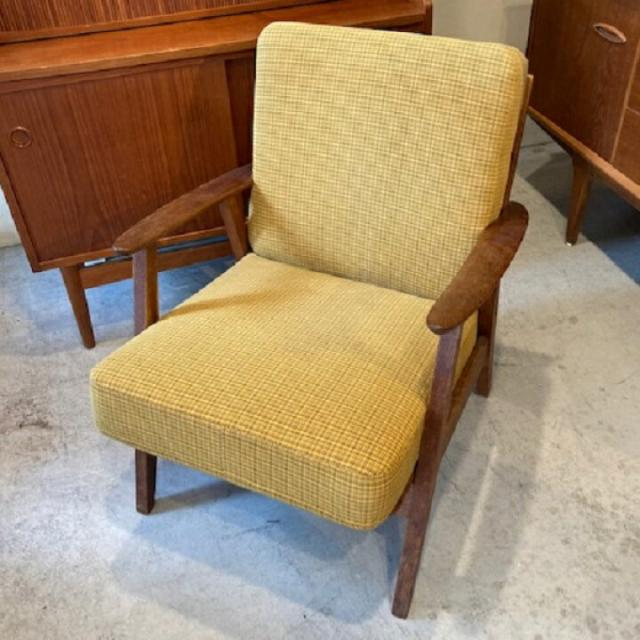chair vintage: (88, 20, 526, 619)
